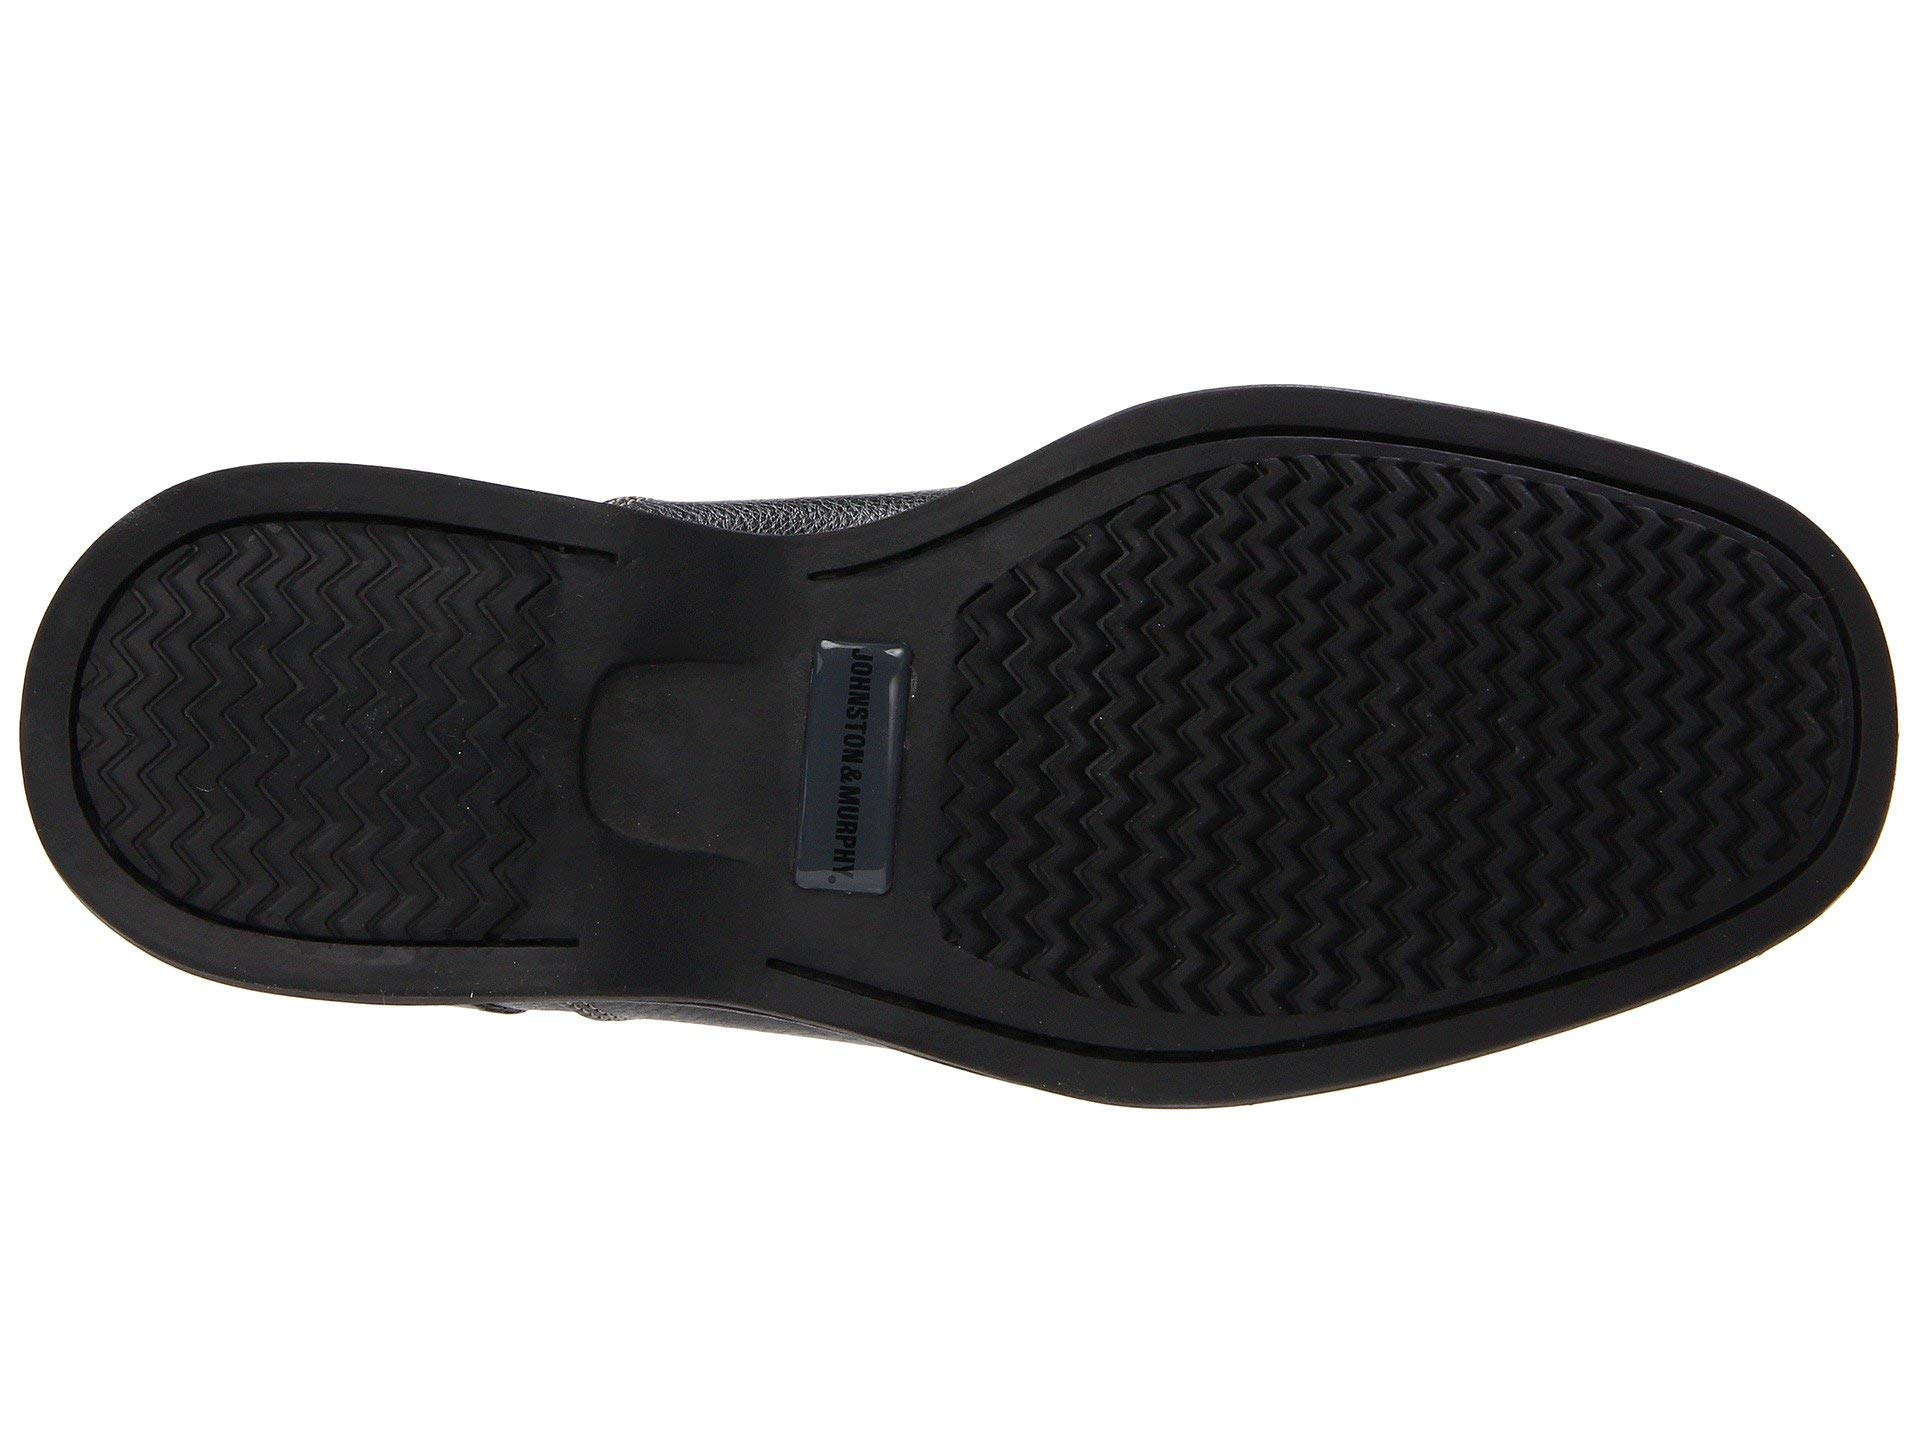chevron: (1082, 486, 1736, 961)
circle: (807, 611, 912, 933)
line: (1082, 486, 1736, 961)
quad: (556, 588, 797, 886), (807, 611, 912, 933)
text: (807, 611, 912, 933)
